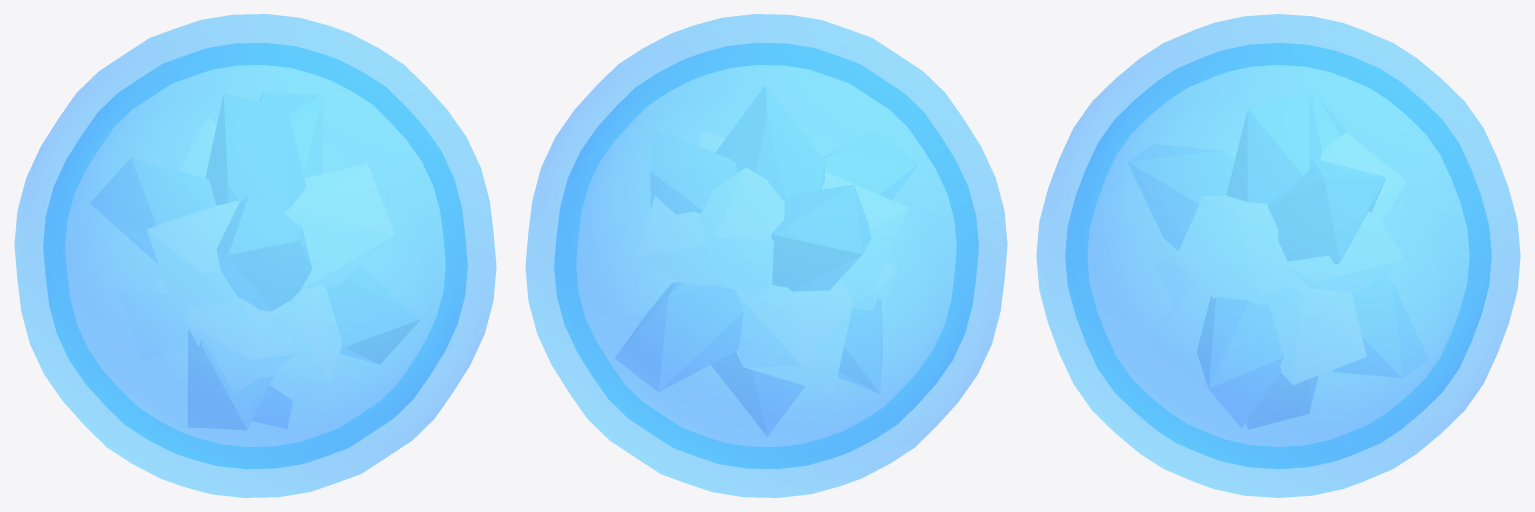
File: orb.glb
3 renders of one model, left to right at view 1: azimuth 30°, elevation 25°; view 2: azimuth 150°, elevation 25°; view 3: azimuth 270°, elevation 25°, orthographic.
Parts seen in each view (by area): view 1: pSphere1, pSphere2, pPlatonic3, pPlatonic1, pPlatonic4, pPlatonic2; view 2: pSphere1, pSphere2, pPlatonic4, pPlatonic1, pPlatonic3, pPlatonic2; view 3: pSphere1, pSphere2, pPlatonic4, pPlatonic1, pPlatonic3, pPlatonic2.
Part boxes in pixels (x1,y1,x2,y2): pSphere1: (14, 14, 496, 497); pSphere2: (43, 43, 467, 468); pPlatonic3: (90, 158, 419, 363); pPlatonic1: (206, 94, 305, 428); pPlatonic4: (217, 197, 311, 310); pPlatonic2: (188, 92, 322, 429); pSphere1: (525, 14, 1007, 497); pSphere2: (554, 43, 978, 468); pPlatonic4: (615, 131, 916, 391); pPlatonic1: (712, 86, 824, 435); pPlatonic3: (771, 185, 870, 290); pPlatonic2: (651, 129, 881, 392); pSphere1: (1036, 14, 1520, 497); pSphere2: (1065, 43, 1491, 468); pPlatonic4: (1128, 144, 1428, 377); pPlatonic1: (1227, 93, 1321, 428); pPlatonic3: (1197, 94, 1345, 427); pPlatonic2: (1268, 160, 1385, 263).
Bounding box in the file's own units: 5.9 × 5.9 × 5.9.
